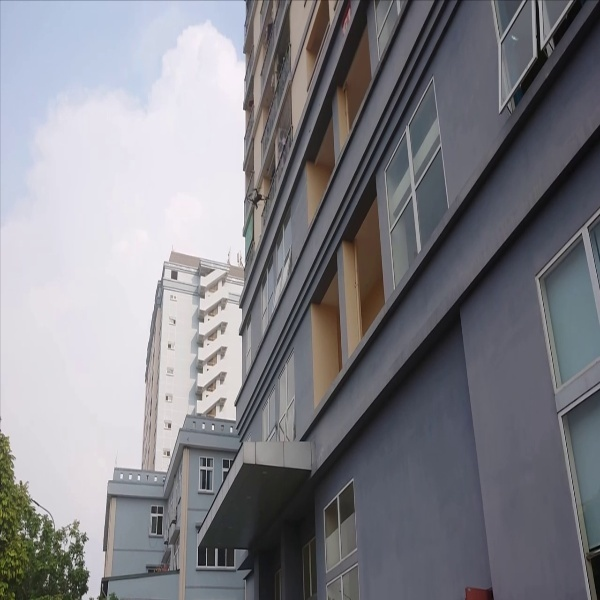drone: (238, 181, 272, 216)
